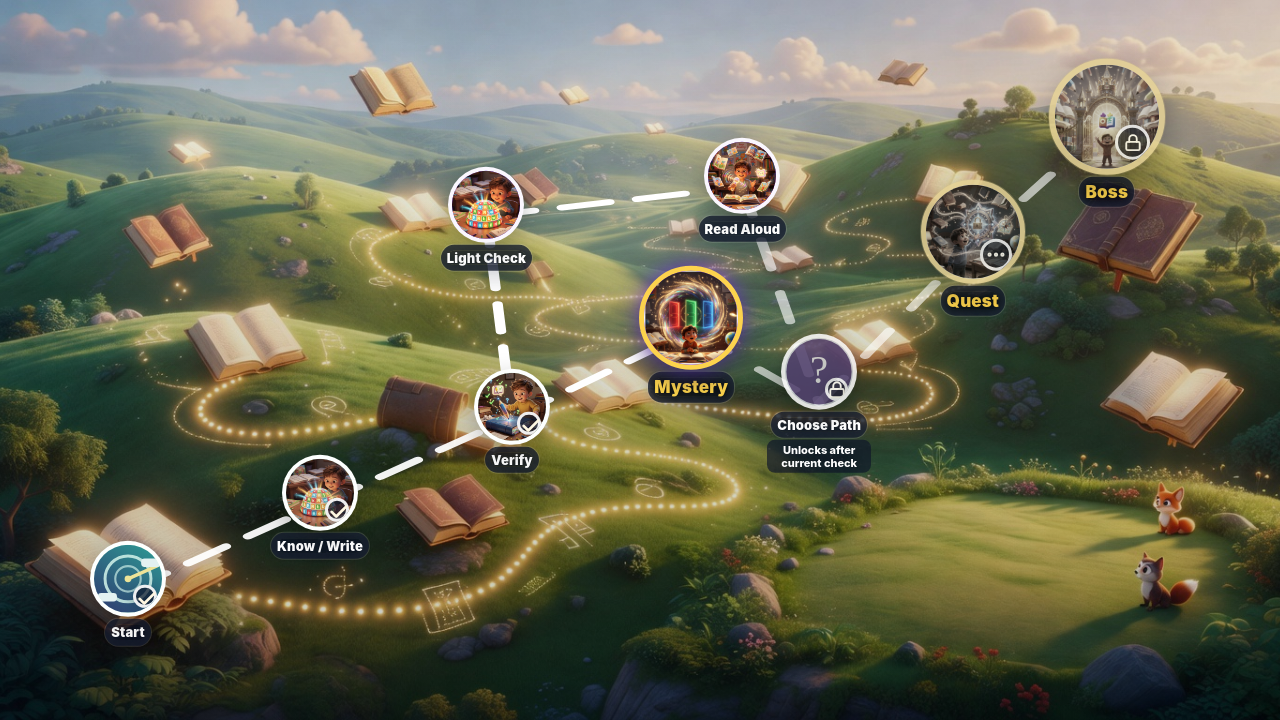
it: AdventureBoard › renders JSON-provided choice thumbnails inside the choice modal
The image size is (1280, 720).
Click the button "Mystery" at [691, 331], box [639,266,743,396]
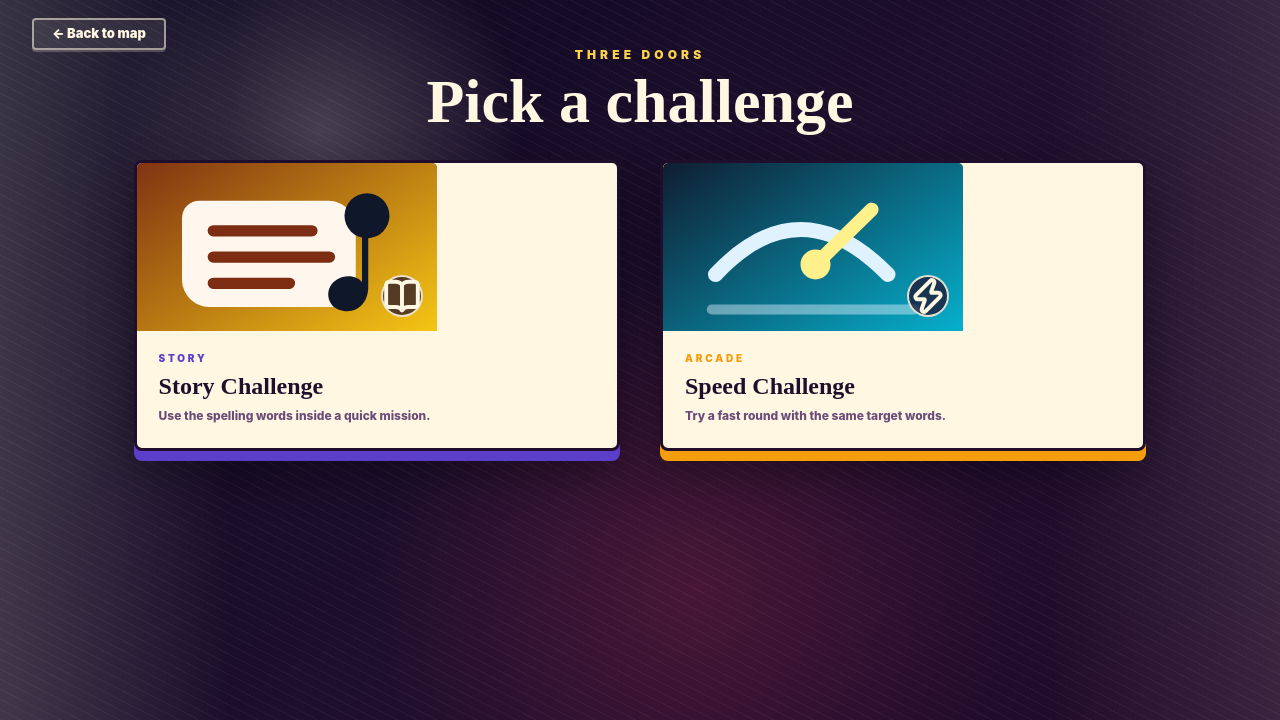
Now the 1st picture is shown, box [137,163,437,331]
Now the 2nd picture is shown, box [663,163,963,331]
